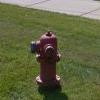Hydrant: (24, 17, 68, 93)
